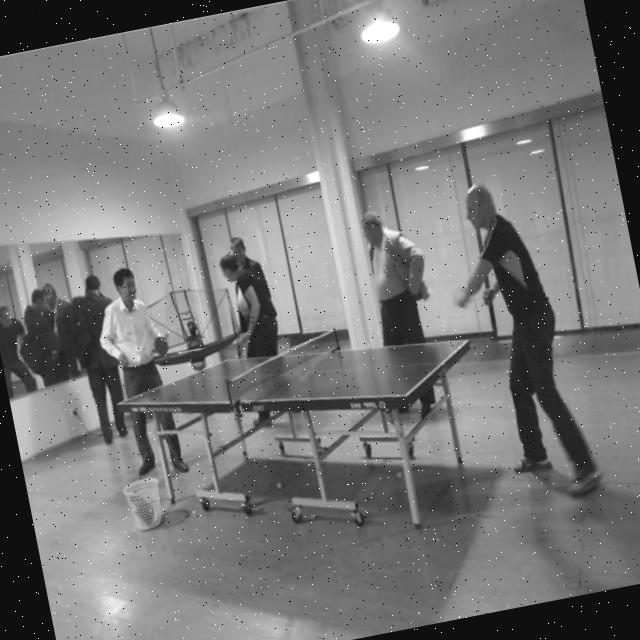ping-pong-ball: (307, 509, 320, 523), (395, 467, 406, 481), (276, 478, 286, 490), (504, 365, 514, 377)
